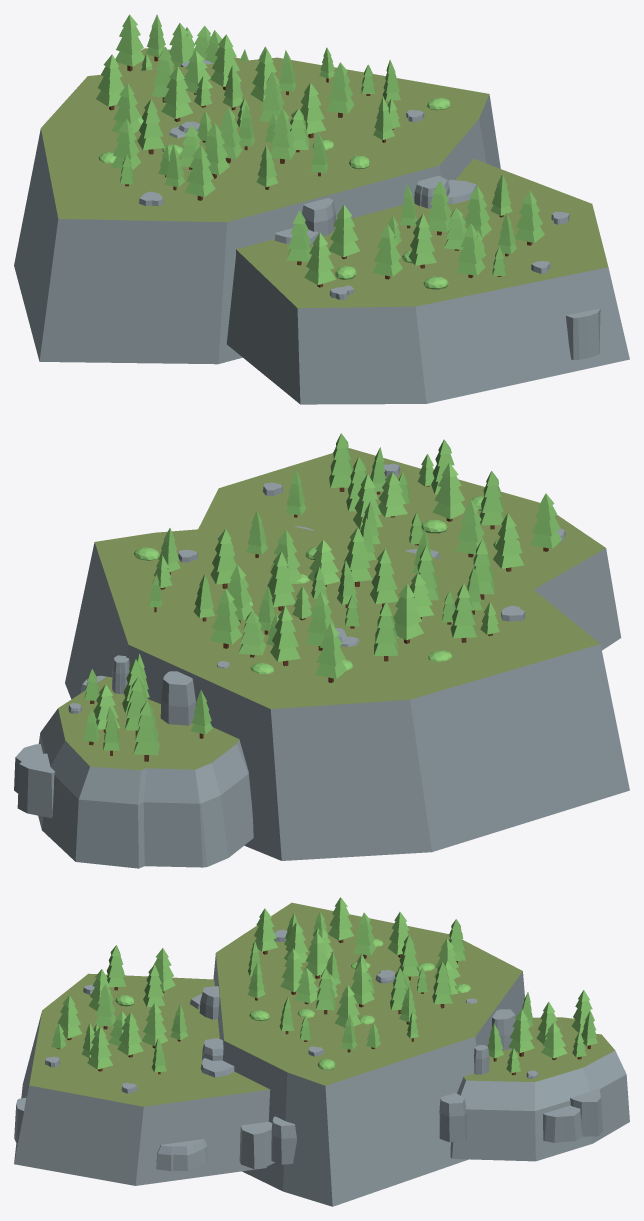
The model's file is MountainBackground4.fbx.
3 renders of one model, top to bottom at view 1: azimuth 30°, elevation 25°; view 2: azimuth 150°, elevation 25°; view 3: azimuth 270°, elevation 25°, orthographic. The views are drawn at different scales.
Parts seen in each view (by area): view 1: Cube.881, Cube.883, Cube.1220, Cube.1203, Cube.1201, Cube.1200; view 2: Cube.881, Cube.882, Cube.883, Cube.1221, Cube.1210; view 3: Cube.881, Cube.883, Cube.882, Cube.1219, Cube.1218, Cube.1222, Cube.1217, Cube.1221, Cube.1216, Cube.1210, Cube.1203, Cube.1200 (+2 smaller).
Boxes of the visible parts, <box> form: Cube.881: <box>14,57,500,364</box>; Cube.883: <box>226,158,629,404</box>; Cube.1220: <box>565,308,600,359</box>; Cube.1203: <box>302,198,335,236</box>; Cube.1201: <box>414,175,449,208</box>; Cube.1200: <box>447,179,476,203</box>; Cube.881: <box>65,523,629,860</box>; Cube.882: <box>38,676,253,868</box>; Cube.883: <box>198,448,621,650</box>; Cube.1221: <box>17,753,54,818</box>; Cube.1210: <box>160,671,195,725</box>; Cube.881: <box>213,902,524,1206</box>; Cube.883: <box>14,973,270,1185</box>; Cube.882: <box>450,1017,629,1161</box>; Cube.1219: <box>239,1121,274,1169</box>; Cube.1218: <box>156,1139,208,1171</box>; Cube.1222: <box>543,1105,582,1142</box>; Cube.1217: <box>439,1093,466,1142</box>; Cube.1221: <box>570,1088,602,1136</box>; Cube.1216: <box>271,1116,296,1164</box>; Cube.1210: <box>492,1009,515,1050</box>; Cube.1203: <box>199,986,219,1019</box>; Cube.1200: <box>200,1058,234,1077</box>.
Size of the model in its own units: 5346 by 1938 by 6887.
